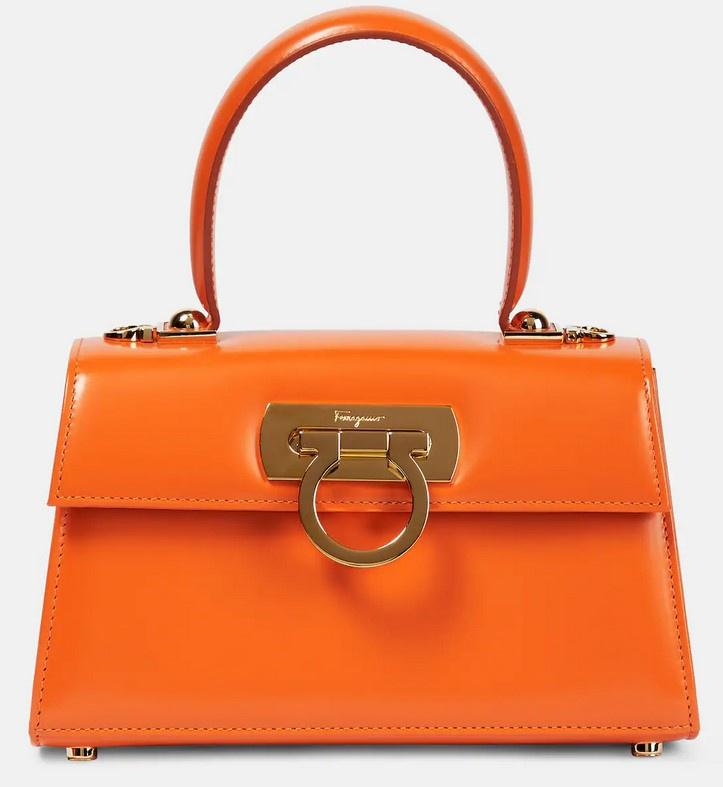FERRAGAMO: (243, 393, 463, 571)
